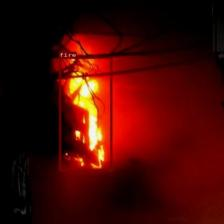fire: (58, 57, 111, 170)
